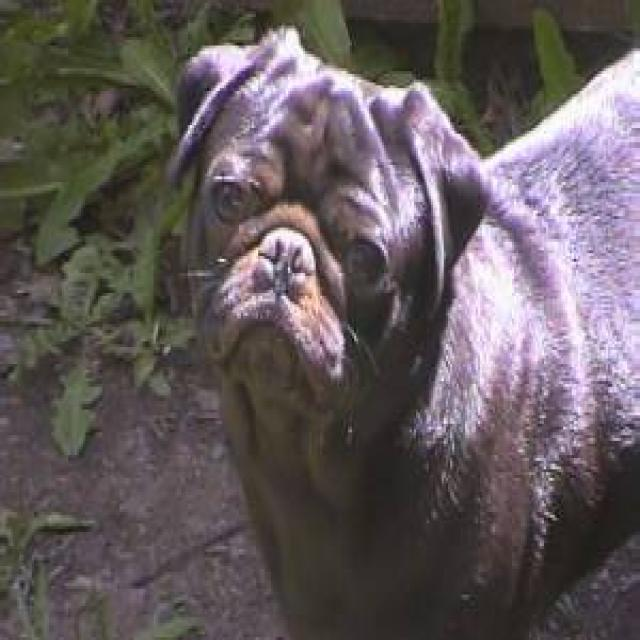dog-pug: (162, 28, 636, 634)
